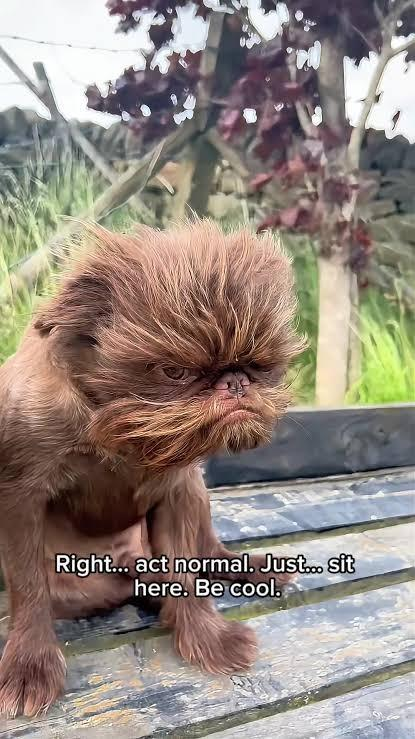adult_dog: (0, 211, 308, 719)
